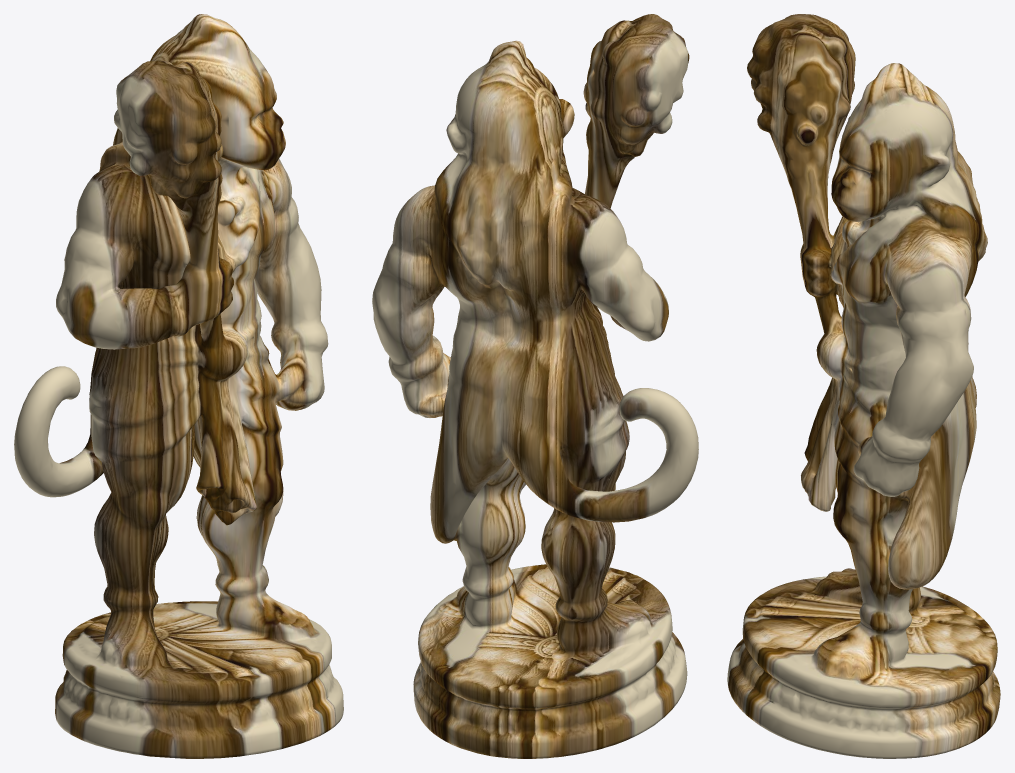
Rendered from padati.glb.
3 renders of one model, left to right at view 1: azimuth 30°, elevation 25°; view 2: azimuth 150°, elevation 25°; view 3: azimuth 270°, elevation 25°, orthographic. The views are drawn at different scales.
Visible parts, largest first — view 1: geometry_0; view 2: geometry_0; view 3: geometry_0.
Boxes of the visible parts, box(x1,y1,x2,y2) form: geometry_0: box(14, 14, 343, 758); geometry_0: box(372, 14, 698, 758); geometry_0: box(727, 14, 1000, 758).
Size of the model in its own units: 0.9432 by 2.02 by 0.7549.
Materials: 1 (1 with a texture image).
